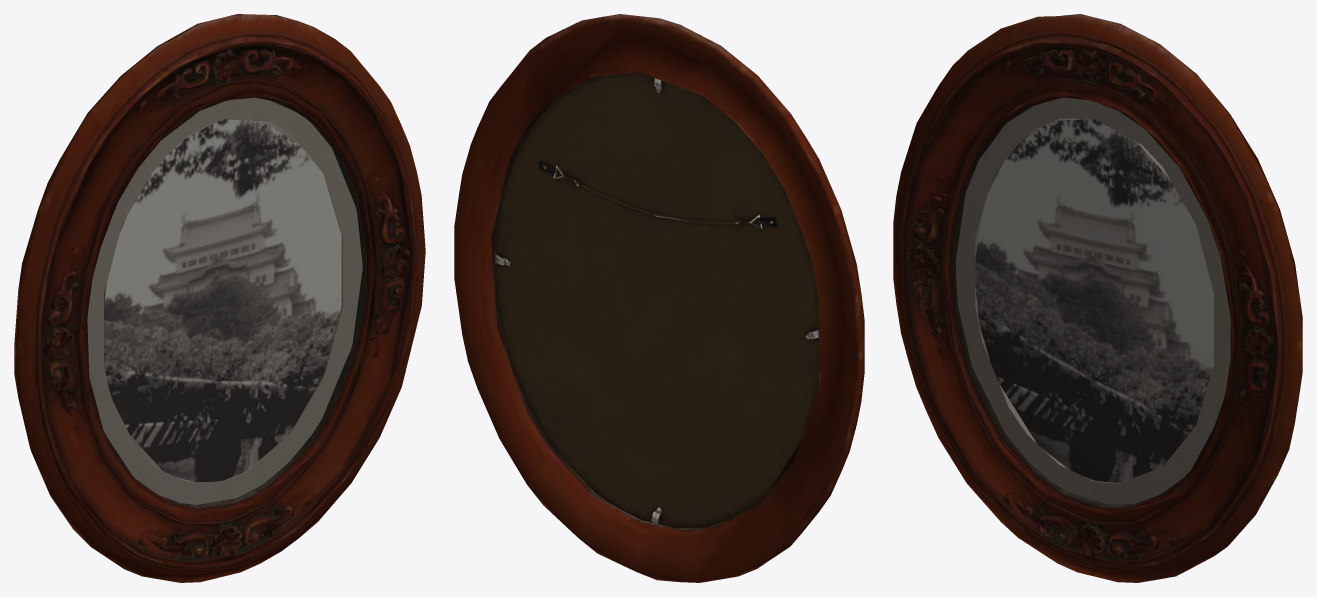
File: hanging_picture_frame_03.glb
3 renders of one model, left to right at view 1: azimuth 30°, elevation 25°; view 2: azimuth 150°, elevation 25°; view 3: azimuth 330°, elevation 25°, orthographic.
Parts seen in each view (by area): view 1: hanging_picture_frame_03, hanging_picture_frame_03_glass; view 2: hanging_picture_frame_03; view 3: hanging_picture_frame_03, hanging_picture_frame_03_glass.
Boxes of the visible parts, x1,y1,x2,y2 form: hanging_picture_frame_03: [14, 14, 425, 582]; hanging_picture_frame_03_glass: [87, 98, 364, 507]; hanging_picture_frame_03: [454, 14, 864, 582]; hanging_picture_frame_03: [893, 14, 1302, 582]; hanging_picture_frame_03_glass: [953, 98, 1230, 507].
Size of the model in its own units: 0.3833 by 0.5014 by 0.0317.
3 materials, 2 textured.
